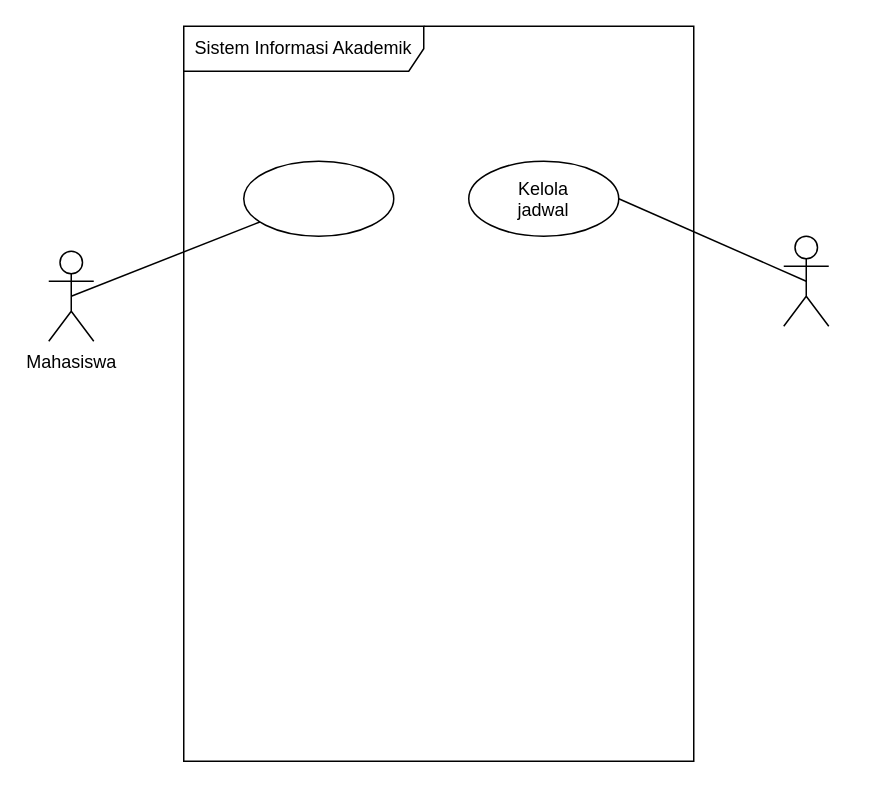
This 872x788 diagram has some shape labels left out. The shapes that lost their labels are listed below. From the top down, each one's centre as x and y in pixels, then its label:
At (318,198): "Lihat jadwal".
At (805,280): "Admin Akademik".
